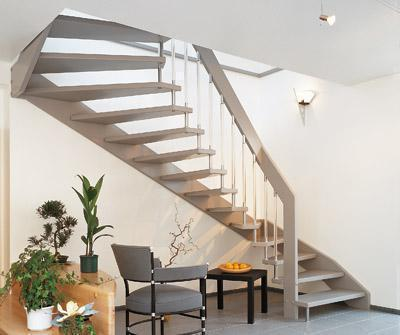Escaleras: (31, 24, 375, 312)
Matera: (12, 235, 64, 331), (72, 171, 107, 274), (37, 193, 76, 266)
